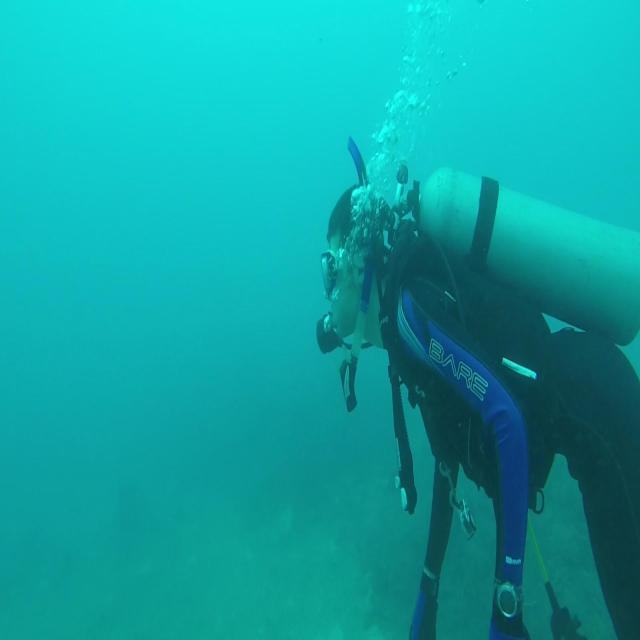human: (316, 158, 638, 638)
